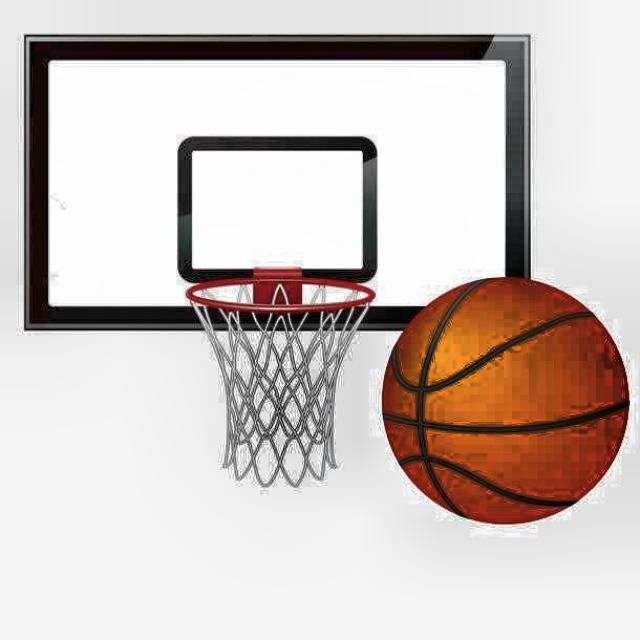board: (384, 277, 631, 526)
rim: (180, 281, 377, 485)
